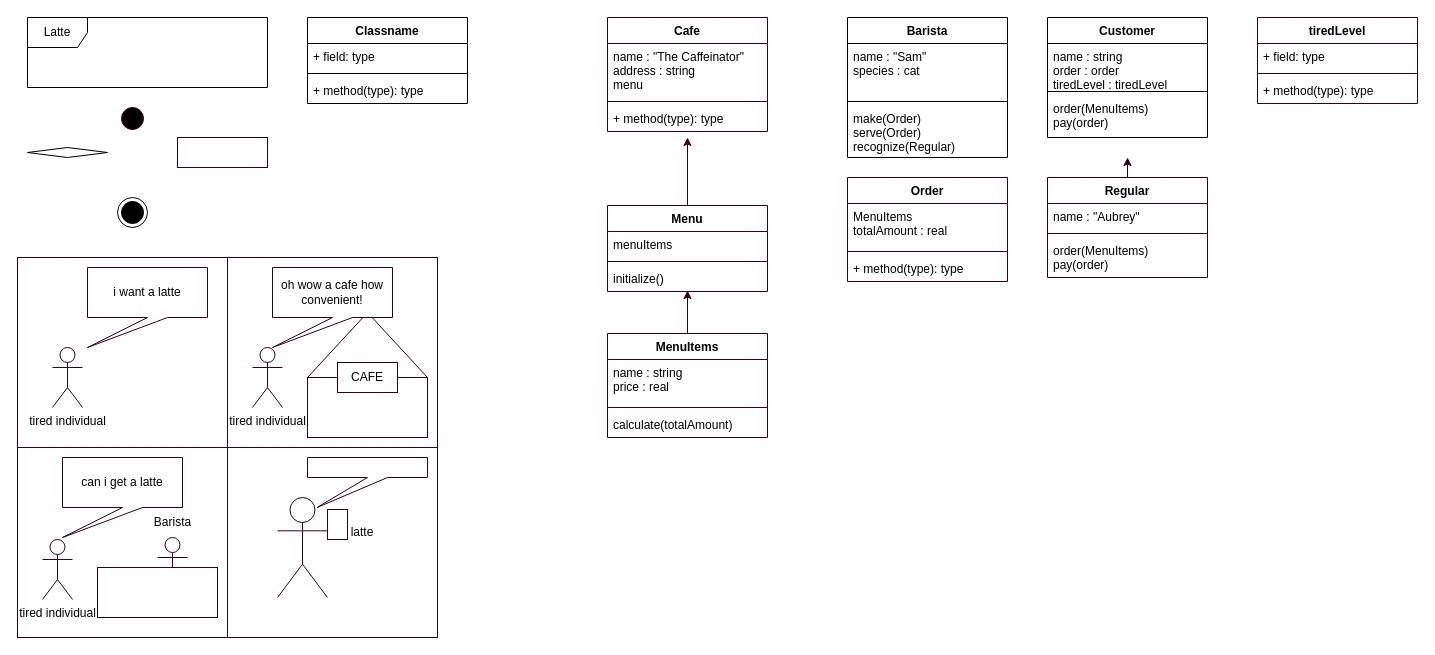
The diagram is 1435 pixels wide and 655 high, and some of its shapes have lost their labels. Each missing label, with the centre of its shape:
"no longer tired individual" belongs at pixel 302 547.
"yummy!!!" belongs at pixel 367 482.
